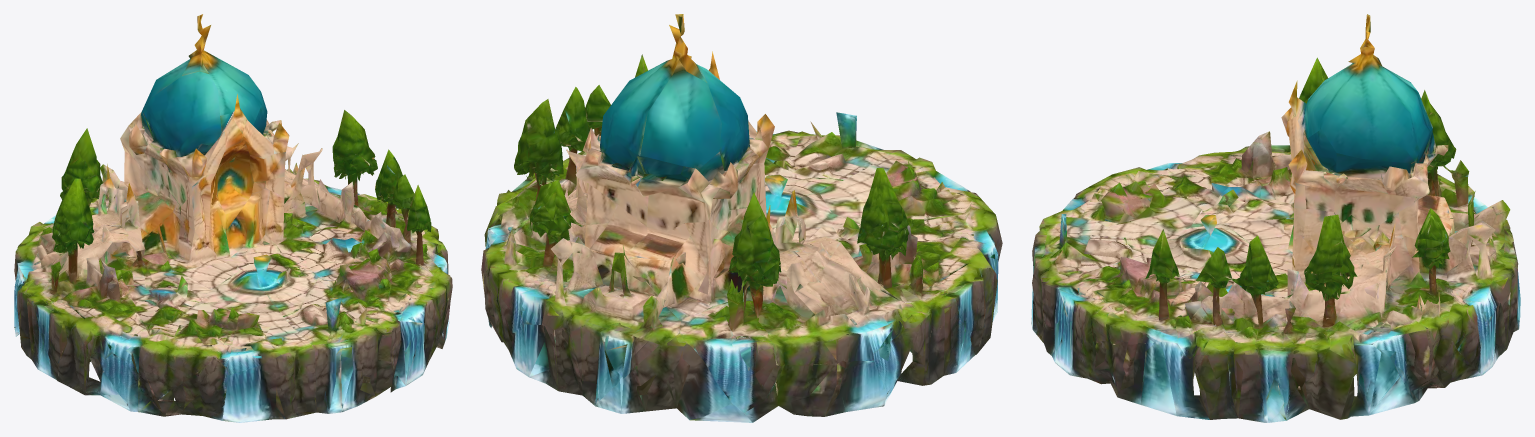
Rendered from pulau-arabic.glb.
3 views of the same model, side by side, from view 1: azimuth 30°, elevation 25°; view 2: azimuth 150°, elevation 25°; view 3: azimuth 270°, elevation 25° (orthographic). The views are drawn at different scales.
Bounding box in the file's own units: 1.89 × 1.34 × 1.89.
Materials: 1 (1 with a texture image).
